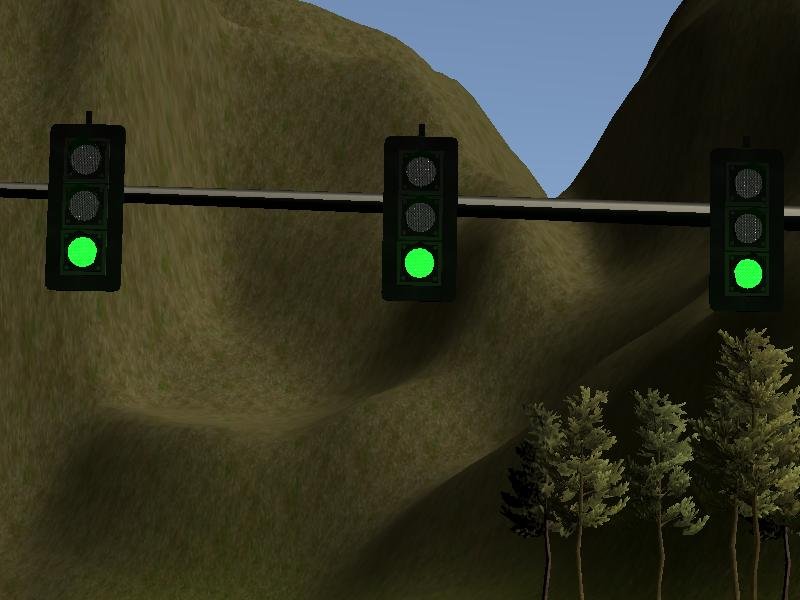not_red: (50, 122, 121, 291), (384, 137, 456, 300), (713, 152, 780, 312)
